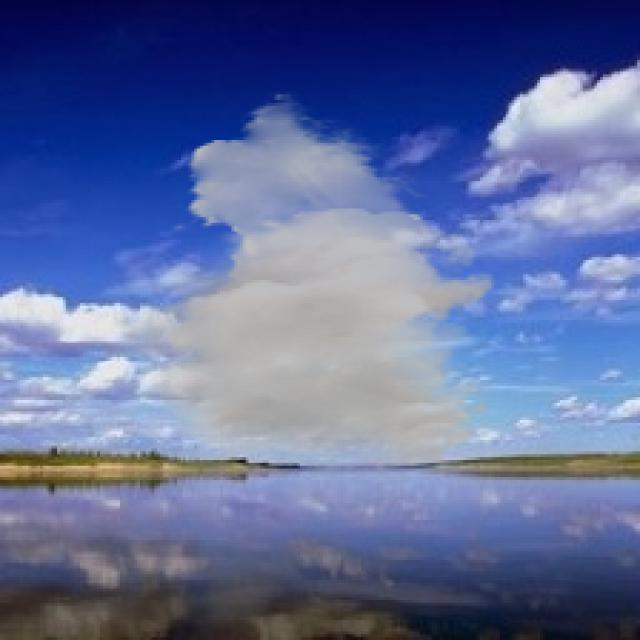Smoke: (102, 91, 498, 468)
